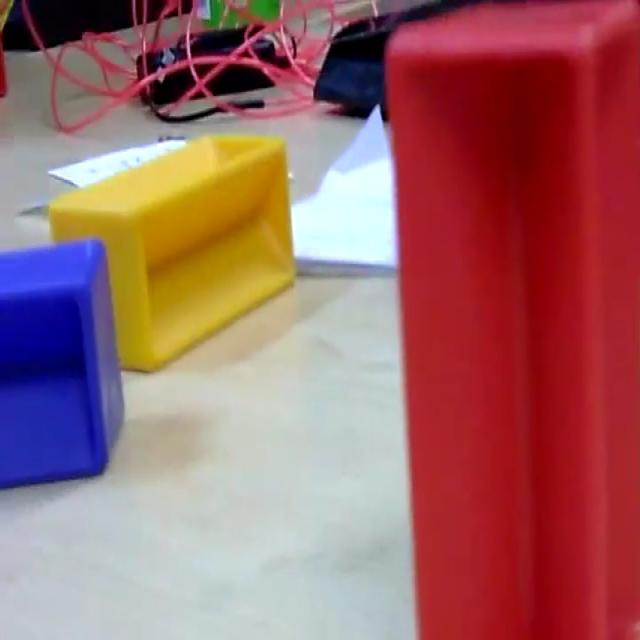blue_block: (0, 235, 125, 488)
red_block: (384, 1, 638, 636)
yellow_block: (48, 132, 296, 372)
